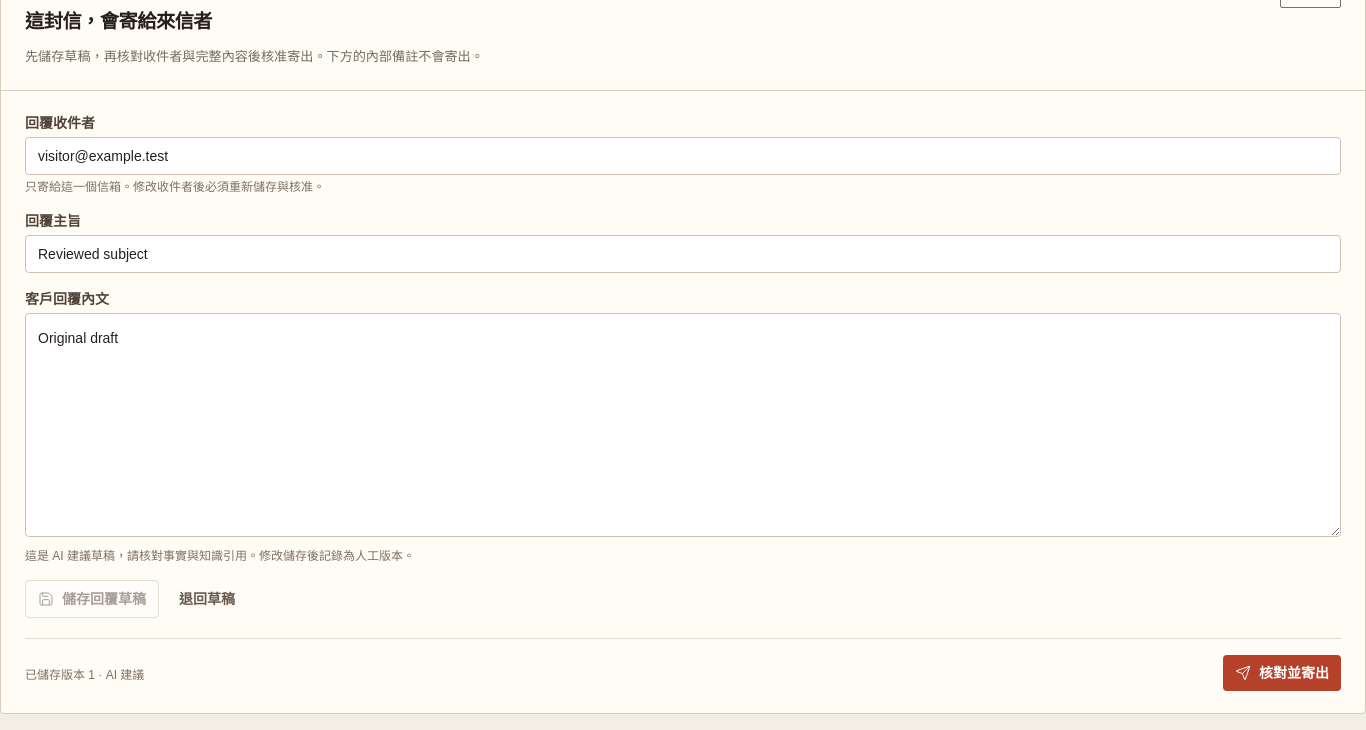
Scenario: requires saving changed content and explicit exact-content confirmation before a send
Replace the text in the text box labelled "客戶回覆內文" with "Human corrected reply" at (683, 425), box [25,313,1341,537]
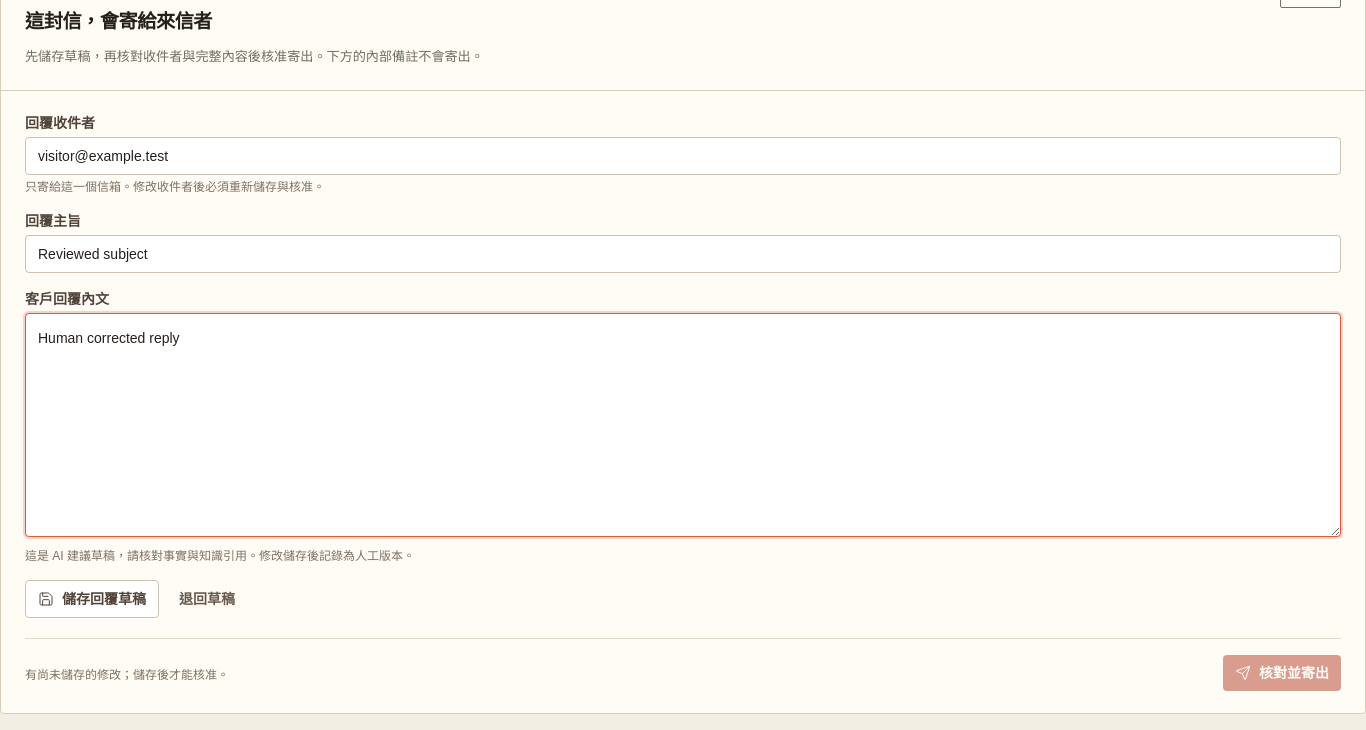
Expected: the button "核對並寄出" is disabled, [1223,655,1341,691]
Click the button "儲存回覆草稿" at (92, 599), box [25,580,159,618]
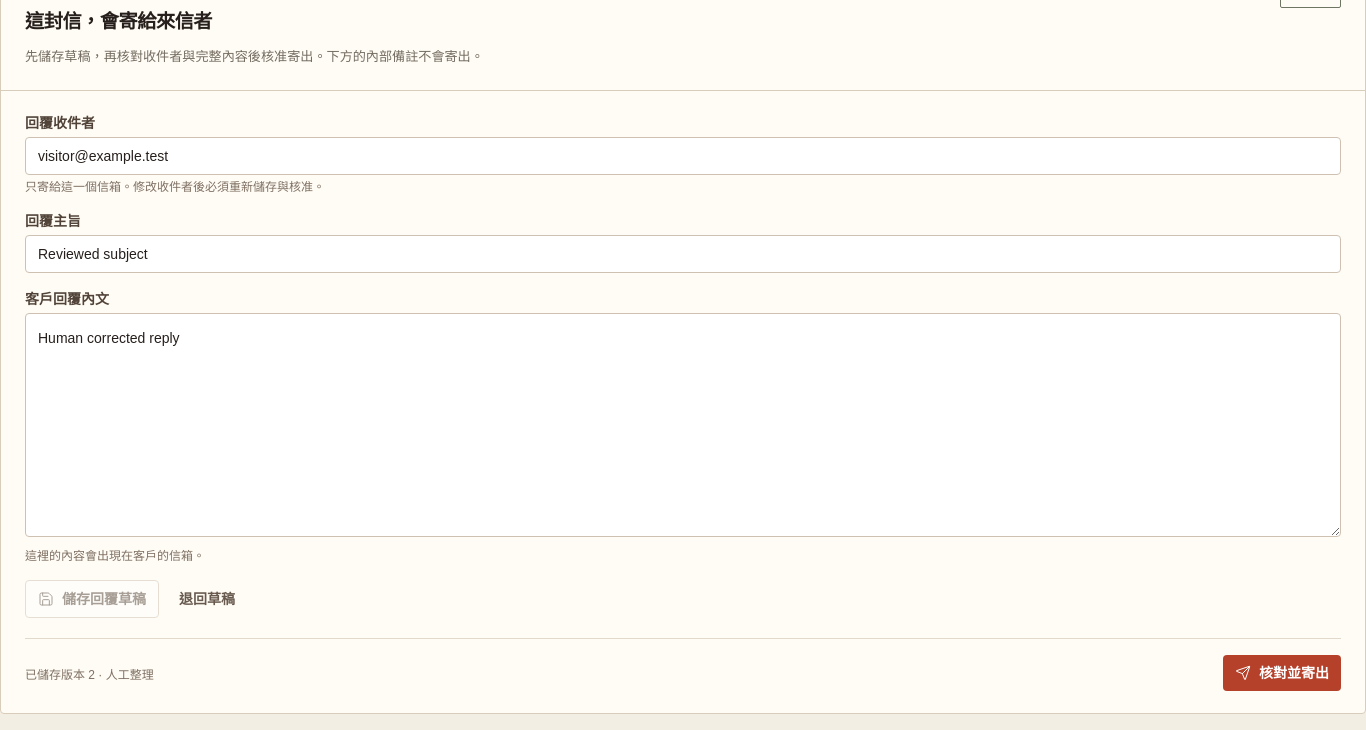
Click the button "核對並寄出" at (1282, 673), box [1223,655,1341,691]
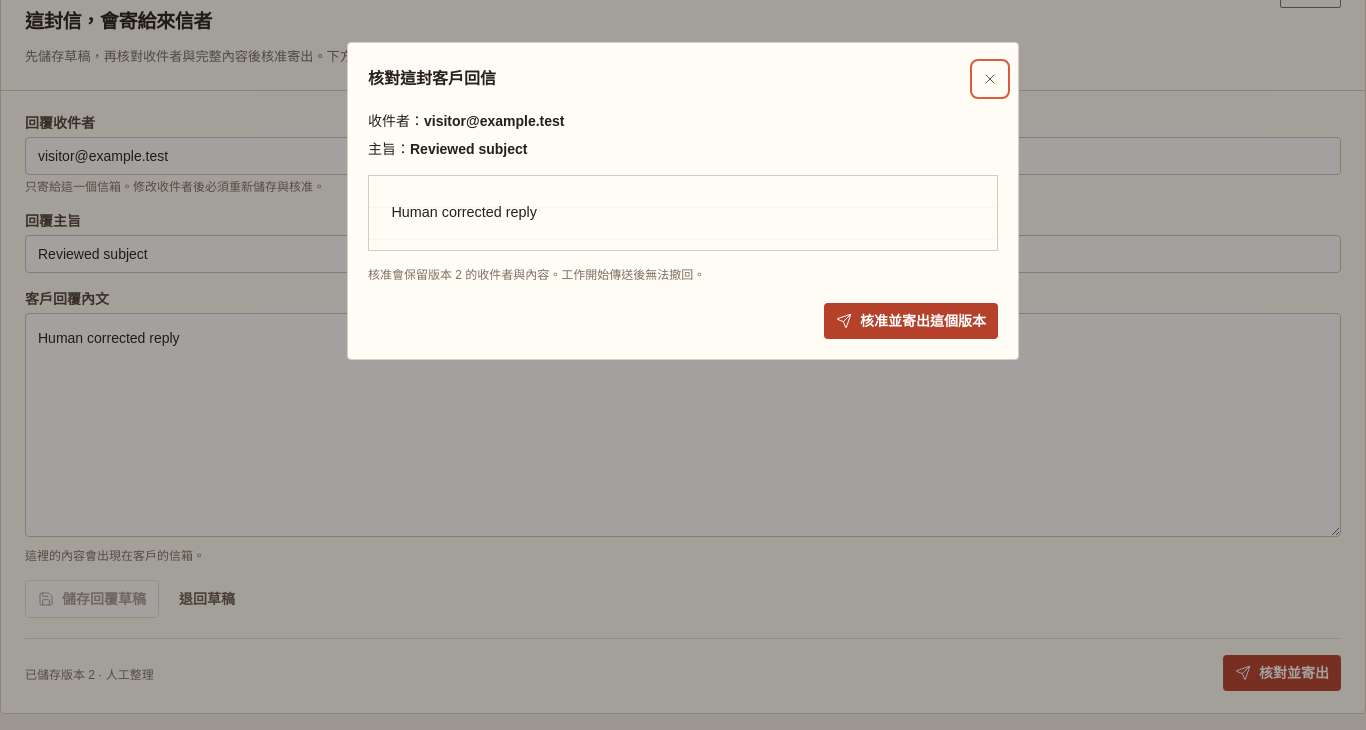
Expected: the text "visitor@example.test" is shown, [424,113,564,129]
Expected: the text "Human corrected reply" is shown, [368,175,998,251]
Click the button "核准並寄出這個版本" at (911, 321), box [824,303,998,339]
(page scrolled)
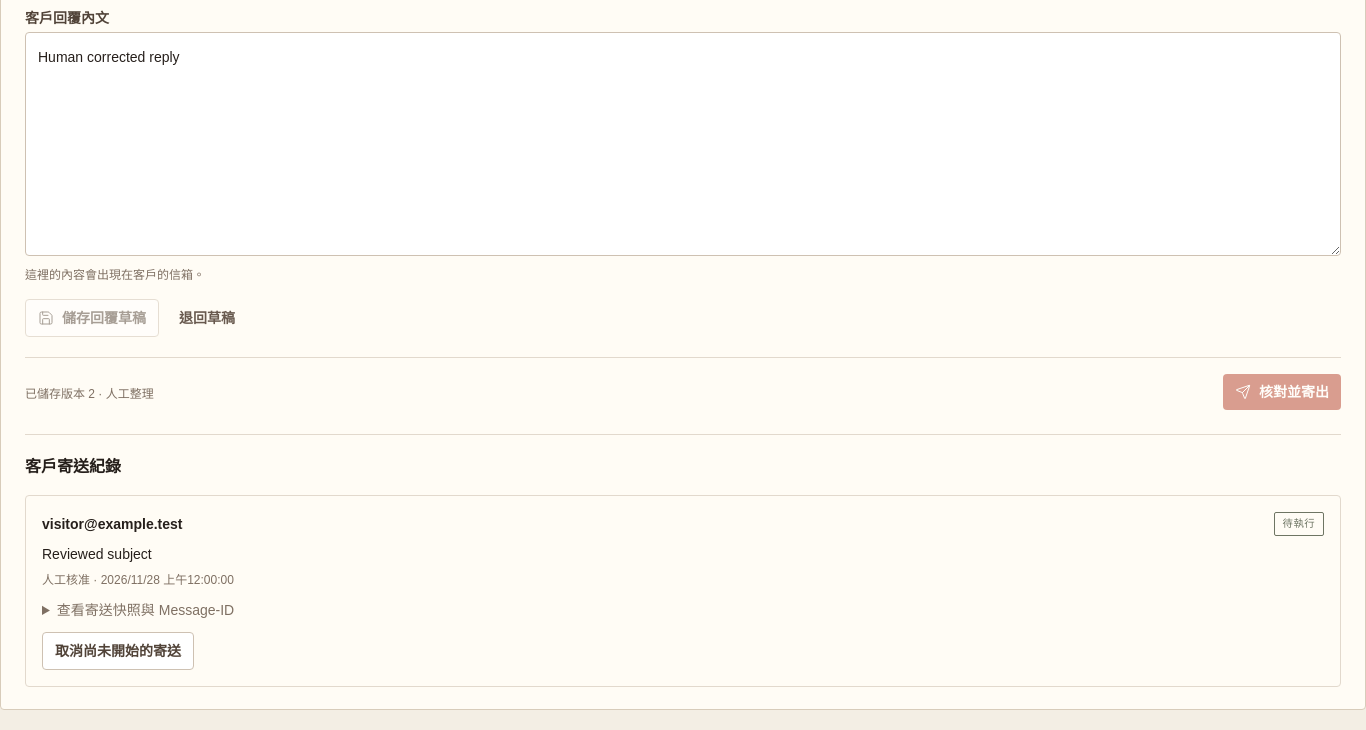
Expected: the text "待執行" is shown, [1274,512,1324,536]
